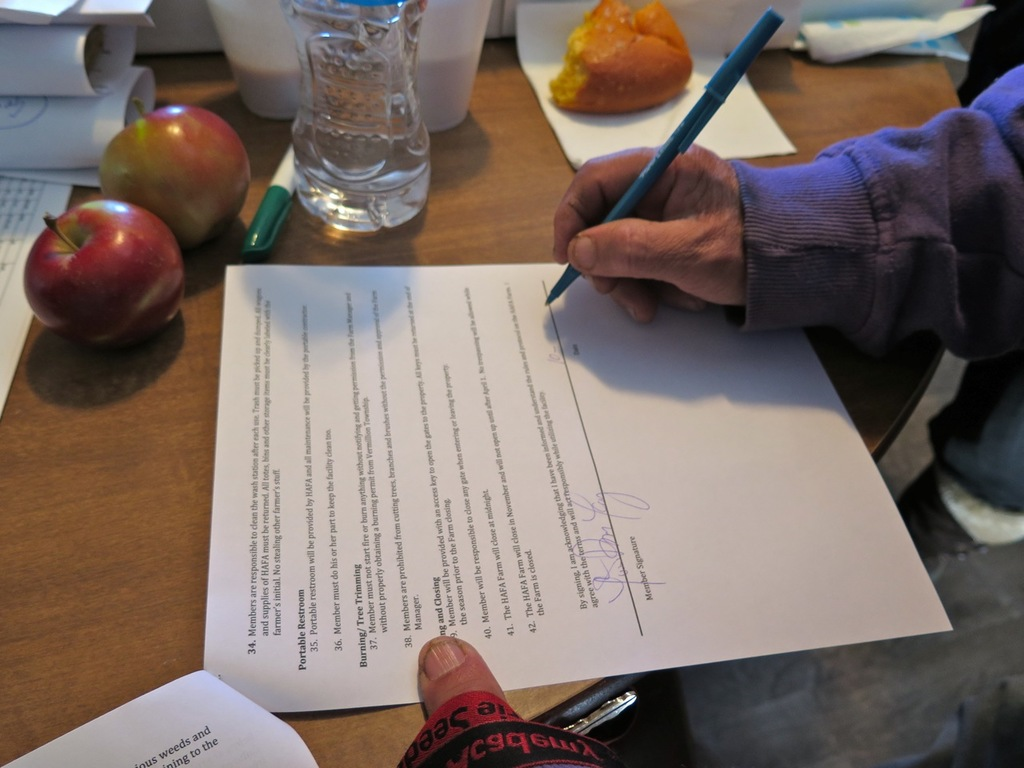Apple: (25, 192, 174, 359), (99, 99, 252, 252)
